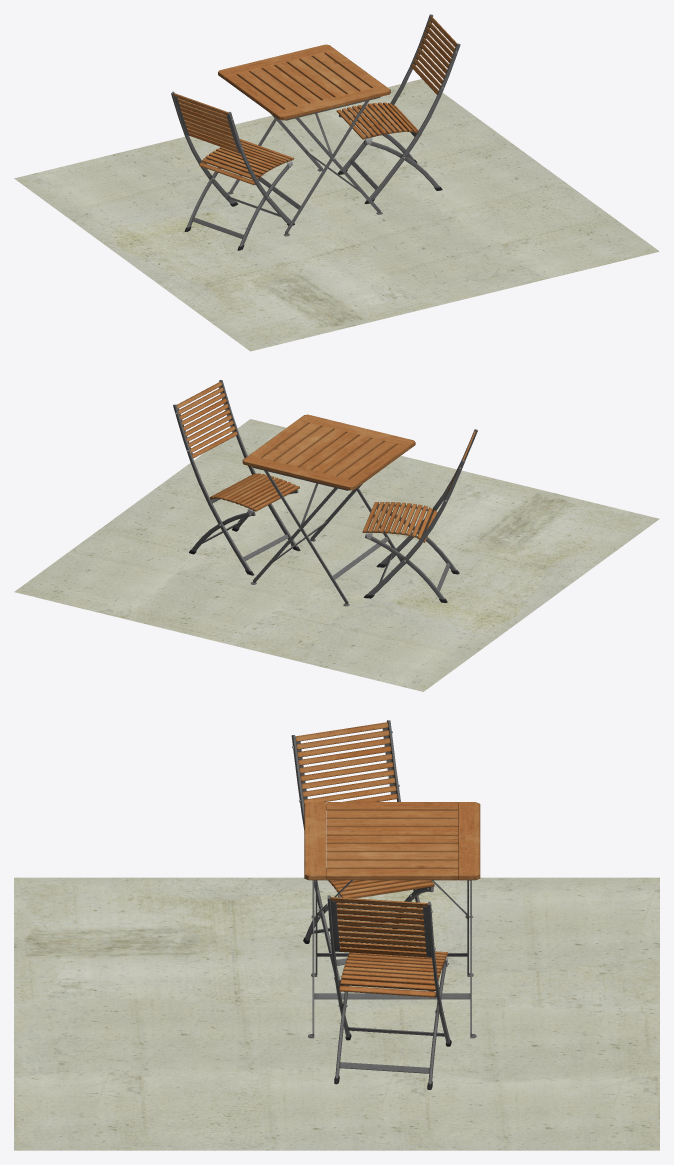
Rendered from demo1.gltf.
3 views of the same model, one above another, from view 1: azimuth 30°, elevation 25°; view 2: azimuth 150°, elevation 25°; view 3: azimuth 270°, elevation 25° (orthographic). The views are drawn at different scales.
Parts seen in each view (by area): view 1: Plane, outdoor_table_chair_set_01_table, outdoor_table_chair_set_01_chair_01, outdoor_table_chair_set_01_chair_02; view 2: Plane, outdoor_table_chair_set_01_table, outdoor_table_chair_set_01_chair_02, outdoor_table_chair_set_01_chair_01; view 3: Plane, outdoor_table_chair_set_01_table, outdoor_table_chair_set_01_chair_02, outdoor_table_chair_set_01_chair_01.
Part boxes in pixels (<box>): Plane: <box>14,79,659,351</box>; outdoor_table_chair_set_01_table: <box>218,44,390,236</box>; outdoor_table_chair_set_01_chair_01: <box>171,91,294,250</box>; outdoor_table_chair_set_01_chair_02: <box>336,14,460,203</box>; Plane: <box>14,419,659,691</box>; outdoor_table_chair_set_01_table: <box>242,414,415,606</box>; outdoor_table_chair_set_01_chair_02: <box>173,380,300,575</box>; outdoor_table_chair_set_01_chair_01: <box>362,429,477,602</box>; Plane: <box>14,877,659,1150</box>; outdoor_table_chair_set_01_table: <box>304,802,480,1038</box>; outdoor_table_chair_set_01_chair_02: <box>327,895,451,1089</box>; outdoor_table_chair_set_01_chair_01: <box>291,720,434,985</box>.
Size of the model in its own units: 8.4 by 2.84 by 8.4.
3 materials, 3 textured.
